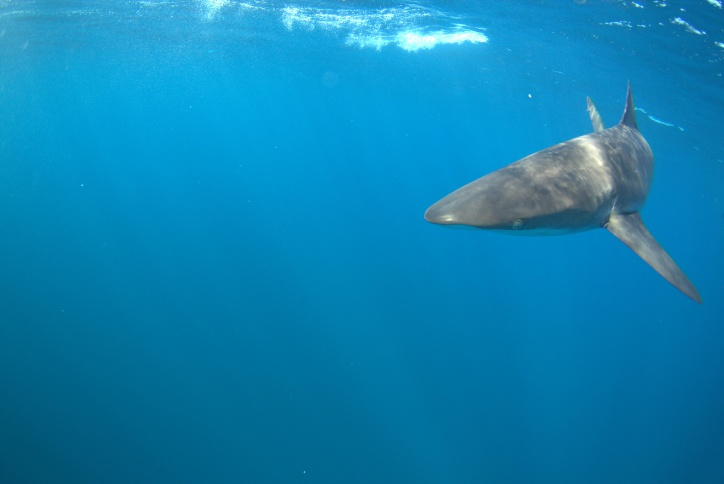Sedoso: (406, 74, 724, 306)
